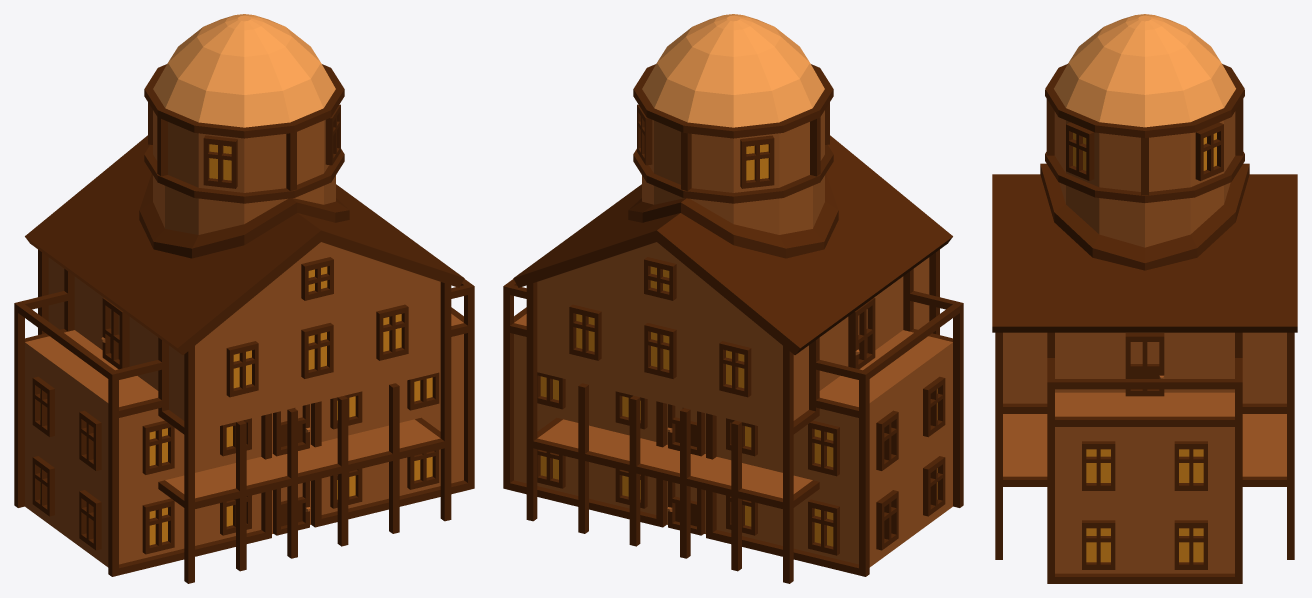
The model's file is CityHall1.fbx.
3 renders of one model, left to right at view 1: azimuth 30°, elevation 25°; view 2: azimuth 150°, elevation 25°; view 3: azimuth 270°, elevation 25°, orthographic.
Parts seen in each view (by area): view 1: Cube.046; view 2: Cube.046; view 3: Cube.046.
Part boxes in pixels (box(x1,y1,x2,y2)): Cube.046: box(14, 14, 474, 583); Cube.046: box(503, 14, 963, 583); Cube.046: box(992, 14, 1297, 583).
Bounding box in the file's own units: 269 × 339 × 196.
